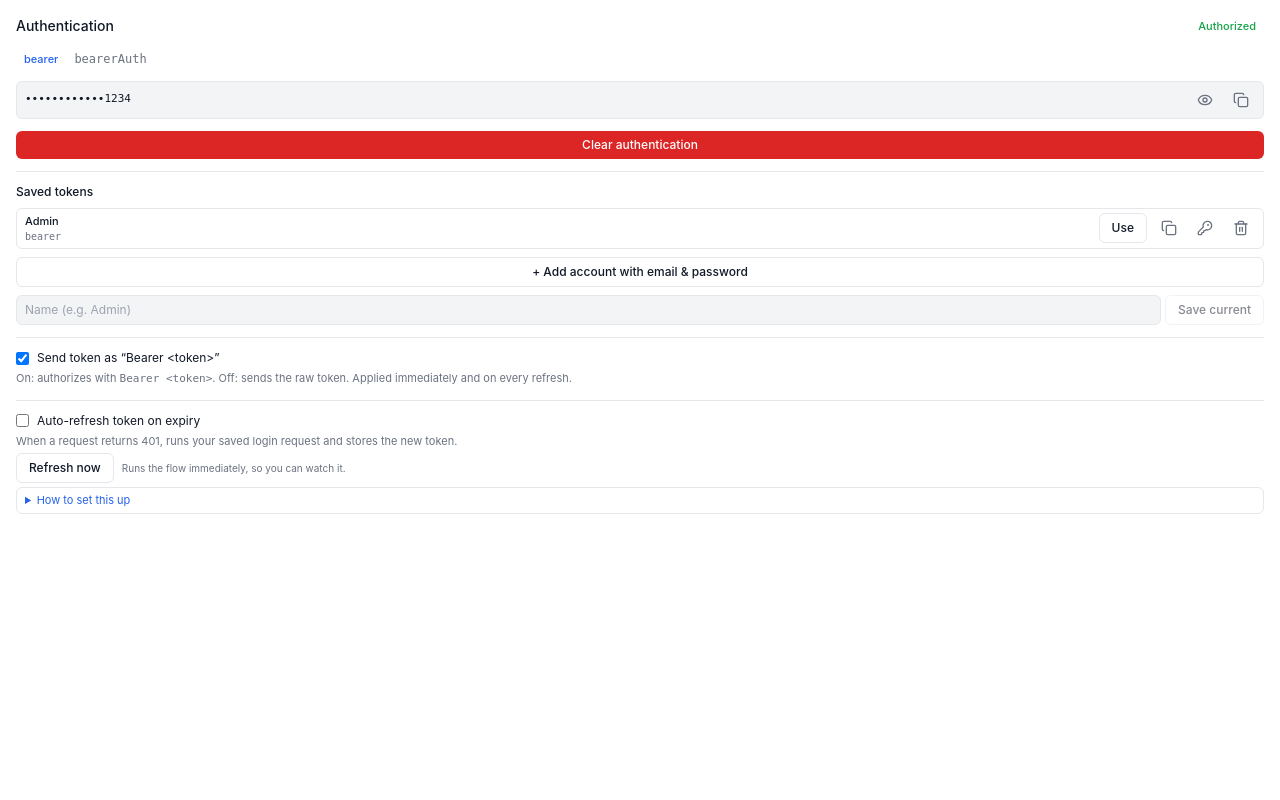
Scenario: AuthPanel › says the password is kept out of backups
Click the button named "Add login for Admin". click: point(1205, 228)
box: [1191,214,1219,242]
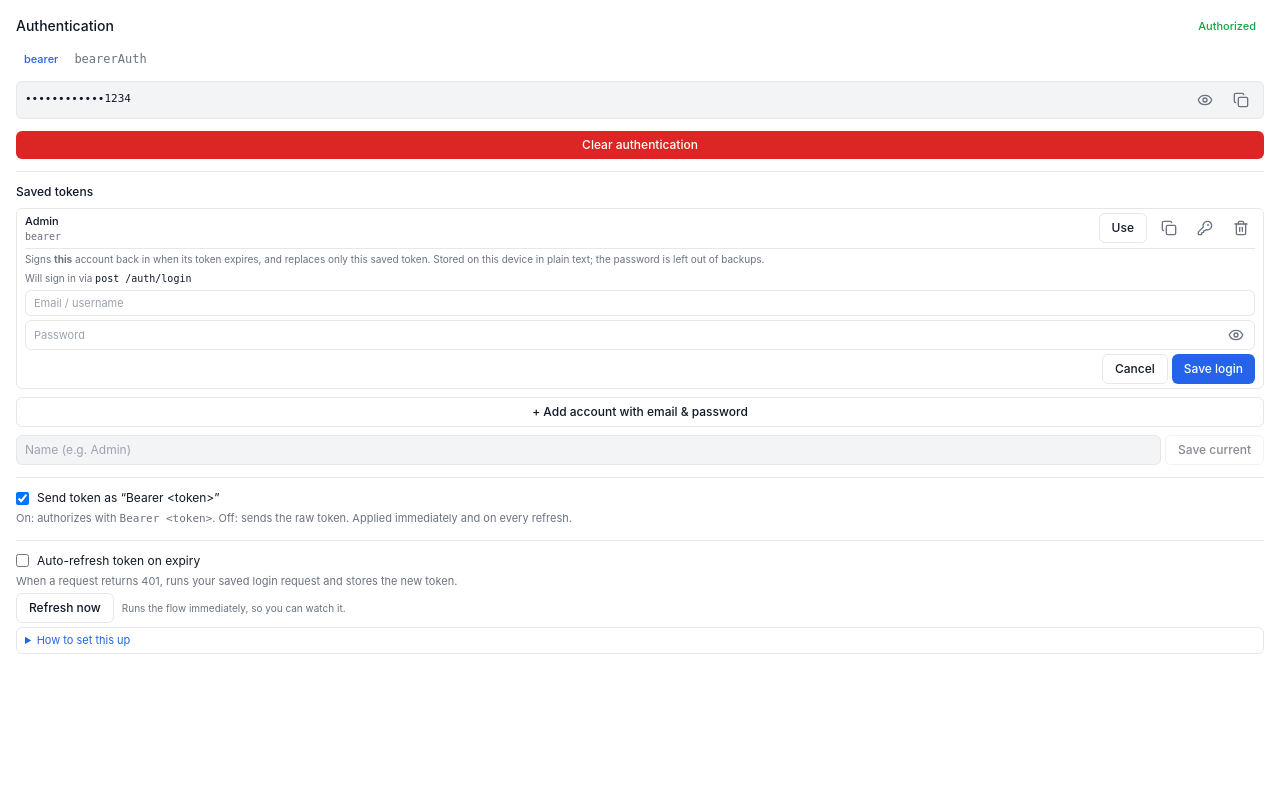
Expected: the text "left out of backups" is shown, [72,253,764,265]
